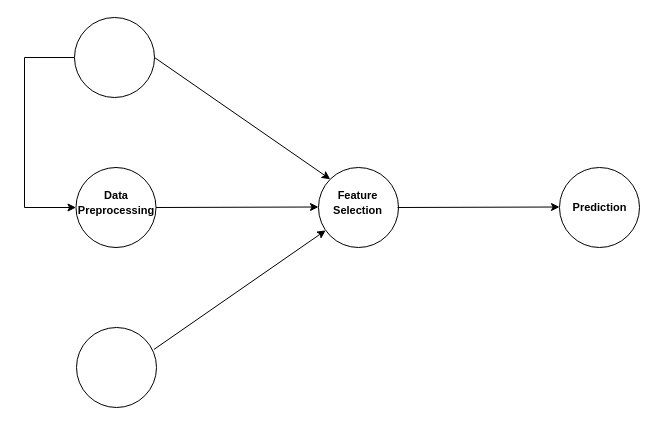
Some shapes in this 658 by 425 pixel diagram are drawn without their labels. Each missing label, with the centre of its shape:
"Colect Meta Data" goes at (114,57).
"Data Generation" goes at (116,367).
